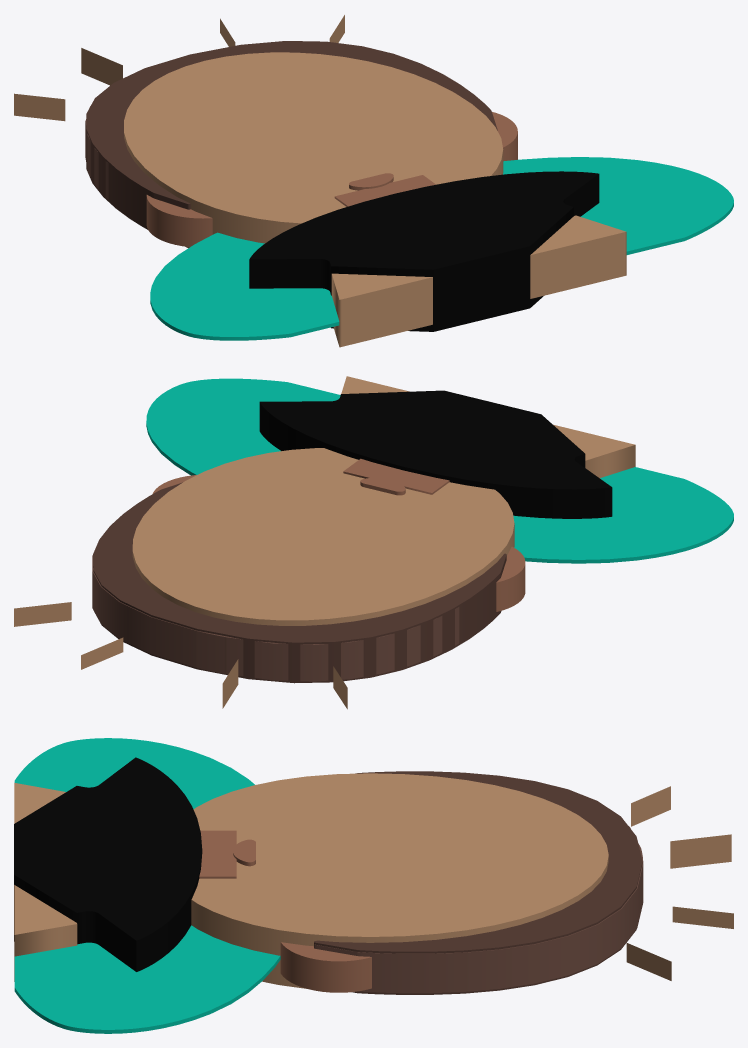
Rendered from emoji_u1f647_1f3fd_200d_2642.glb.
3 views of the same model, one above another, from view 1: azimuth 30°, elevation 25°; view 2: azimuth 150°, elevation 25°; view 3: azimuth 270°, elevation 25° (orthographic). The views are drawn at different scales.
Parts seen in each view (by area): view 1: emoji_u1f647_1f3fd_200d_2642; view 2: emoji_u1f647_1f3fd_200d_2642; view 3: emoji_u1f647_1f3fd_200d_2642.
Part boxes in pixels (<box>): emoji_u1f647_1f3fd_200d_2642: <box>14,15,733,347</box>; emoji_u1f647_1f3fd_200d_2642: <box>14,376,733,709</box>; emoji_u1f647_1f3fd_200d_2642: <box>14,738,733,1033</box>.
Bounding box in the file's own units: 0.0319 × 0.0034 × 0.0332.
